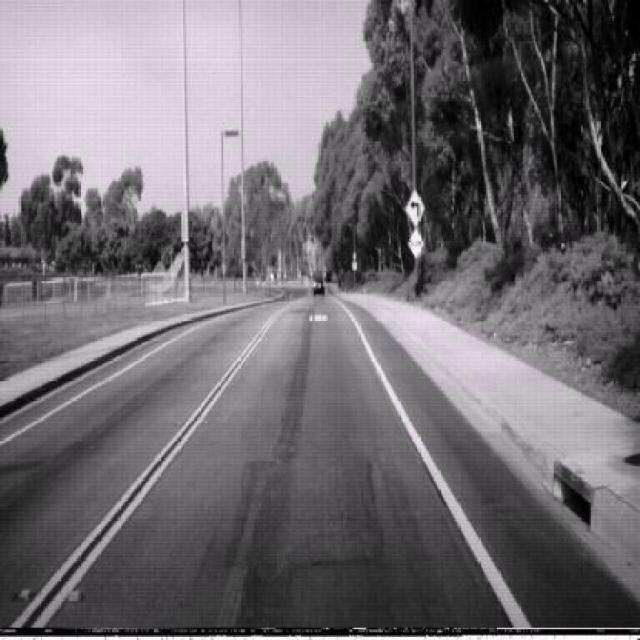slow: (408, 228, 423, 260)
turnLeft: (405, 186, 425, 228)
